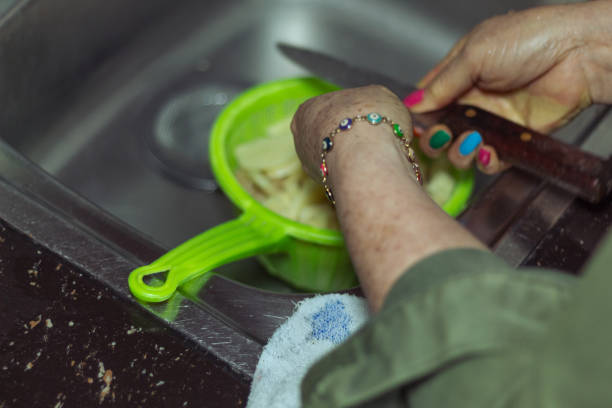knife: (277, 39, 612, 209)
